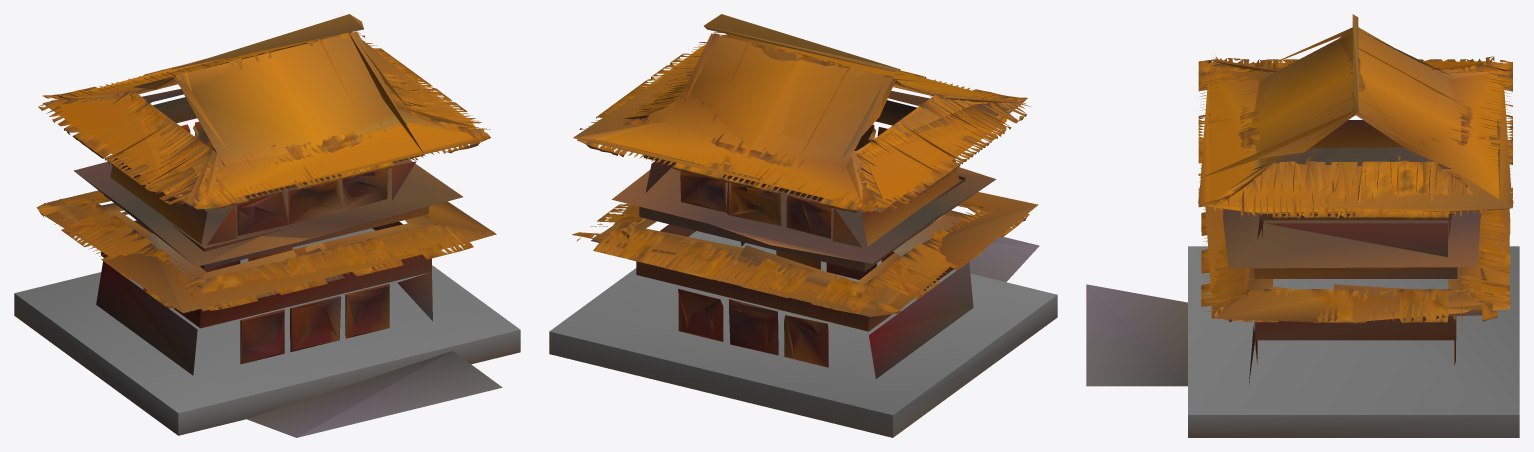
Rendered from bq_drum_tower.vc.glb.
3 views of the same model, side by side, from view 1: azimuth 30°, elevation 25°; view 2: azimuth 150°, elevation 25°; view 3: azimuth 270°, elevation 25° (orthographic).
Visible parts, largest first — view 1: bq_drum_tower; view 2: bq_drum_tower; view 3: bq_drum_tower.
Part boxes in pixels (left/top/right/bottom): bq_drum_tower: left=14, top=14, right=520, bottom=437; bq_drum_tower: left=549, top=14, right=1057, bottom=437; bq_drum_tower: left=1086, top=14, right=1519, bottom=437.
Bounding box in the file's own units: 1.67 × 1.4 × 1.81.
